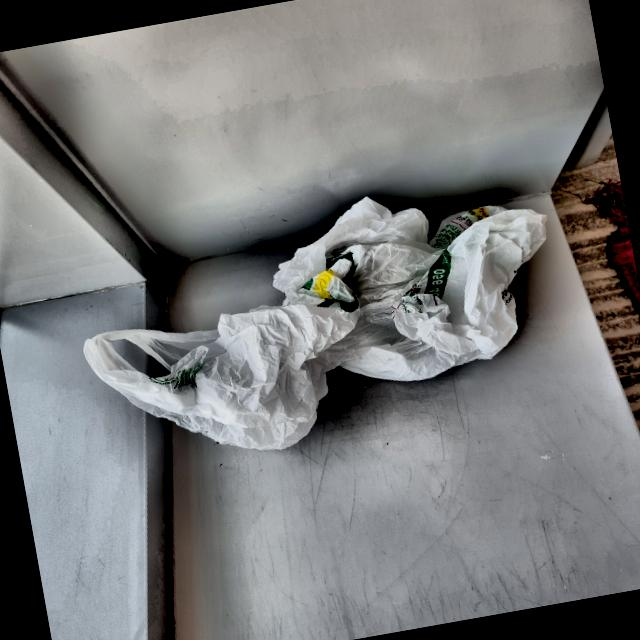plastic bag: (67, 169, 578, 476)
